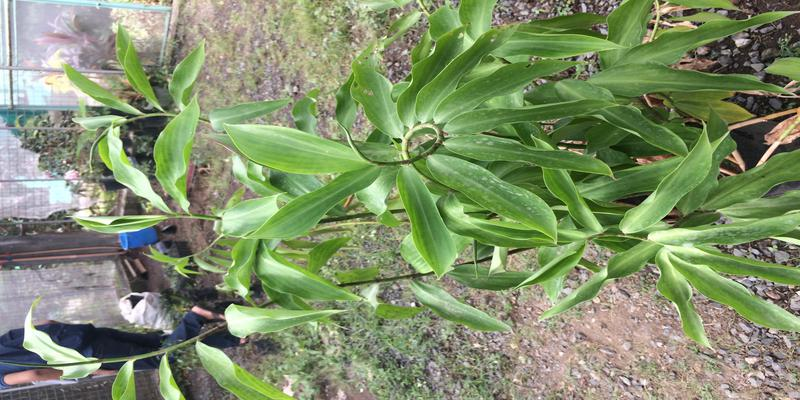Insulin: (68, 71, 795, 288)
